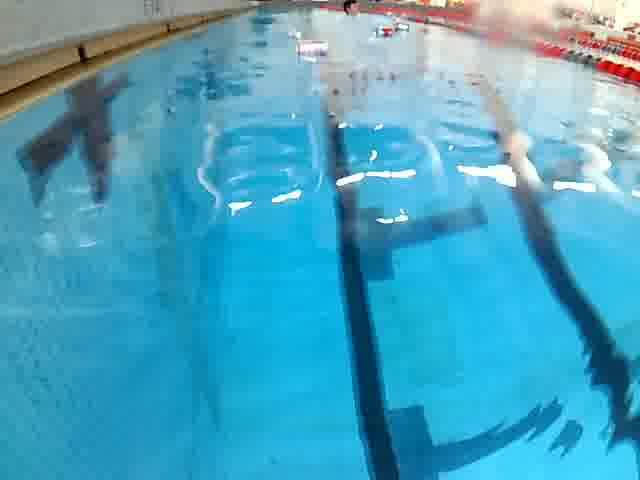Can: (292, 36, 336, 59), (372, 24, 399, 41)
